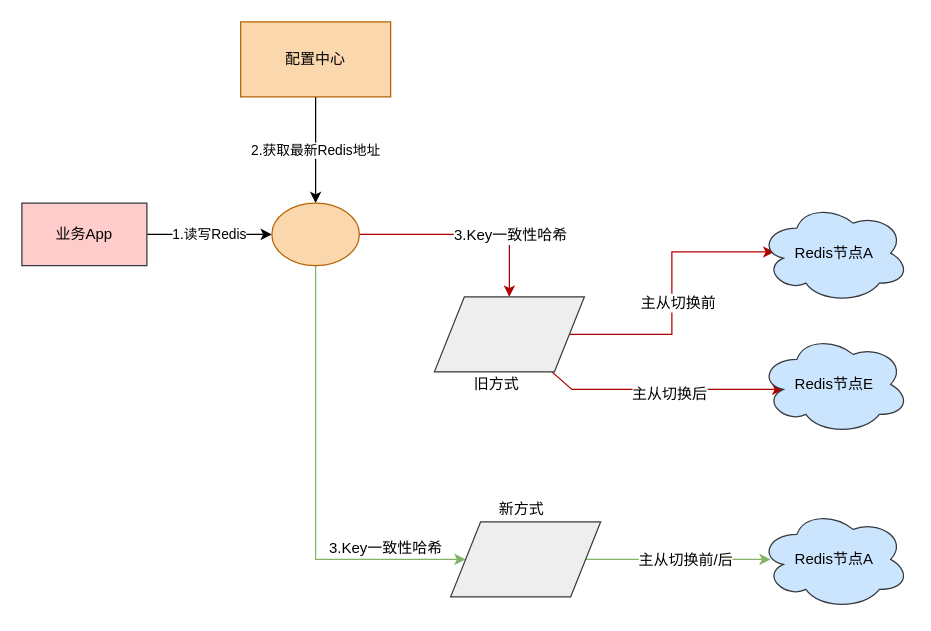
This 931x631 diagram has some shape labels left out. The centre of each missing label's shape, as x and y in pixels:
HashBy ClusterIndex: (525,559)
HashBy IpAndPort: (508,334)
lib-redis: (315,234)
